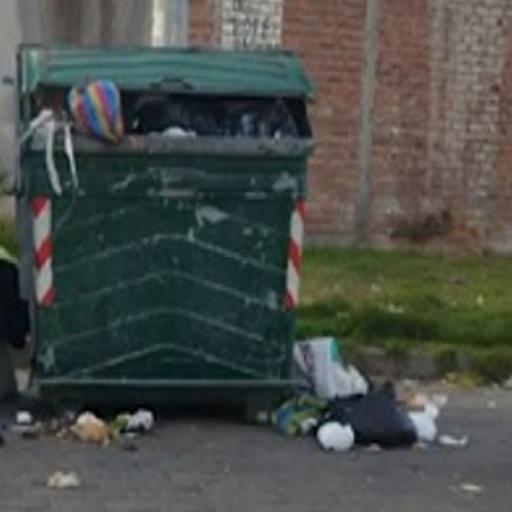Basura_fuera: (20, 46, 438, 449)
